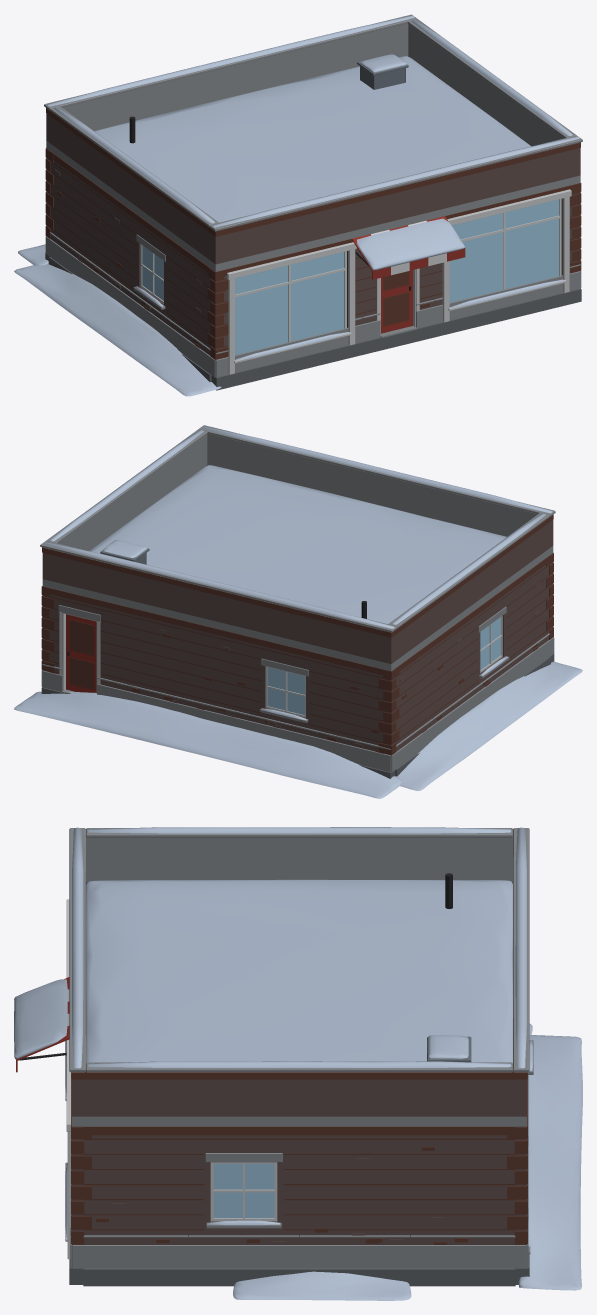
The model's file is gas_station.glb.
The picture shows the model from 3 angles, top to bottom: view 1: azimuth 30°, elevation 25°; view 2: azimuth 150°, elevation 25°; view 3: azimuth 270°, elevation 25°; orthographic projection. The views are drawn at different scales.
Visible parts, largest first — view 1: Roof, Walls0_S, Walls0_W, Floor0, Window_0, Window_1, Walls0_S_Stub, Door_0, Walls0_W_Stub, Window_4, Walls0_N; view 2: Roof, Walls0_N, Floor0, Walls0_W, Walls0_N_Stub, Door_1, Window_2, Walls0_W_Stub, Window_4, Walls0_S; view 3: Roof, Walls0_E, Floor0, Walls0_S, Walls0_E_Stub, Window_3, Walls0_N.
Boxes of the visible parts, x1,y1,x2,y2 form: Roof: (44,14,582,271); Walls0_S: (207,183,581,377); Walls0_W: (49,151,211,373); Floor0: (14,244,581,396); Window_0: (235,252,344,354); Window_1: (449,199,558,302); Walls0_S_Stub: (210,264,581,376); Door_0: (381,270,412,333); Walls0_W_Stub: (50,232,210,354); Window_4: (142,245,163,300); Walls0_N: (45,148,53,256); Roof: (40,425,555,671); Walls0_N: (41,586,399,772); Floor0: (14,654,582,798); Walls0_W: (395,555,549,768); Walls0_N_Stub: (41,664,396,769); Door_1: (66,614,96,692); Window_2: (267,667,304,715); Walls0_W_Stub: (396,633,549,751); Window_4: (480,617,500,670); Walls0_S: (546,553,554,656); Roof: (69,827,529,1126); Walls0_E: (83,1126,515,1268); Floor0: (69,1023,582,1300); Walls0_S: (14,899,91,1268); Walls0_E_Stub: (83,1235,515,1244); Window_3: (213,1163,274,1218); Walls0_N: (507,1039,533,1268).
Size of what is drawn, in the model's own units: 11.84 by 4.4 by 10.26.
